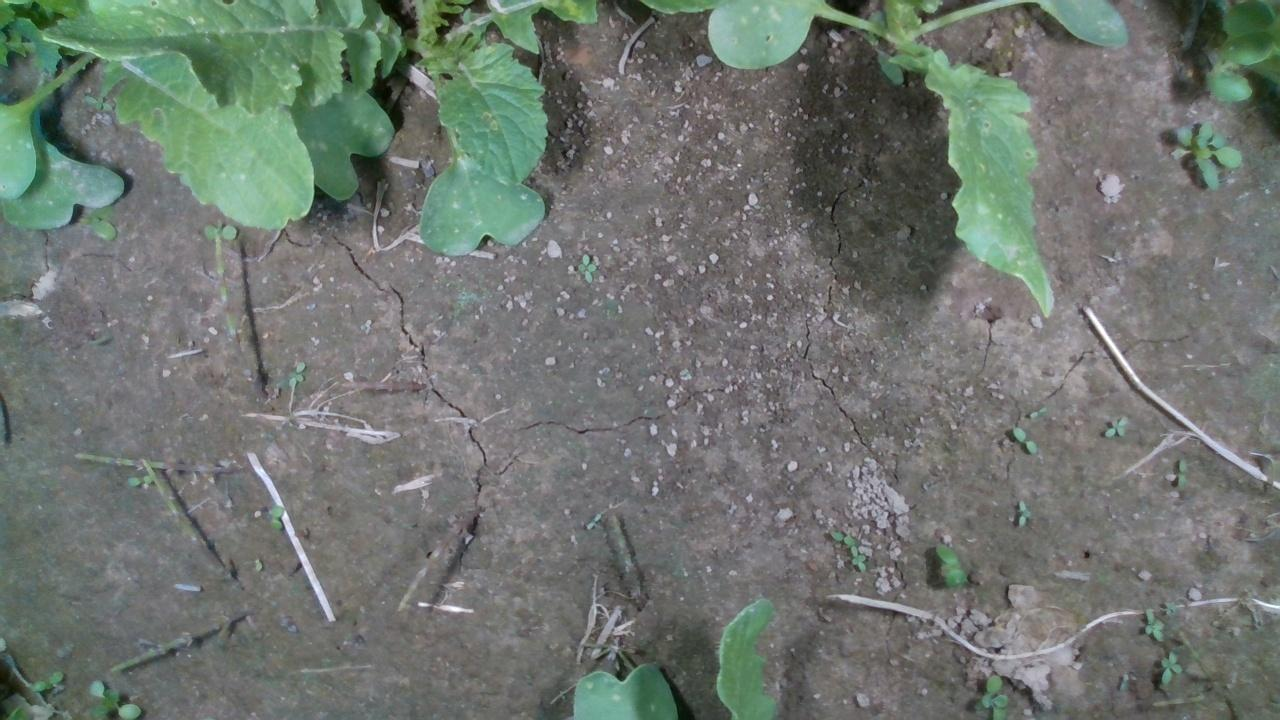weed: (1157, 648, 1182, 684), (1009, 424, 1036, 455), (573, 251, 597, 283), (1143, 607, 1164, 641), (1102, 414, 1128, 438), (284, 359, 305, 386), (849, 544, 867, 573), (267, 502, 284, 530), (827, 529, 856, 544), (1176, 456, 1186, 490)
